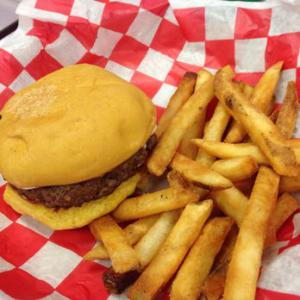cheeseburger_475cal: (3, 56, 156, 230)
fries_350cal: (159, 64, 299, 300)
